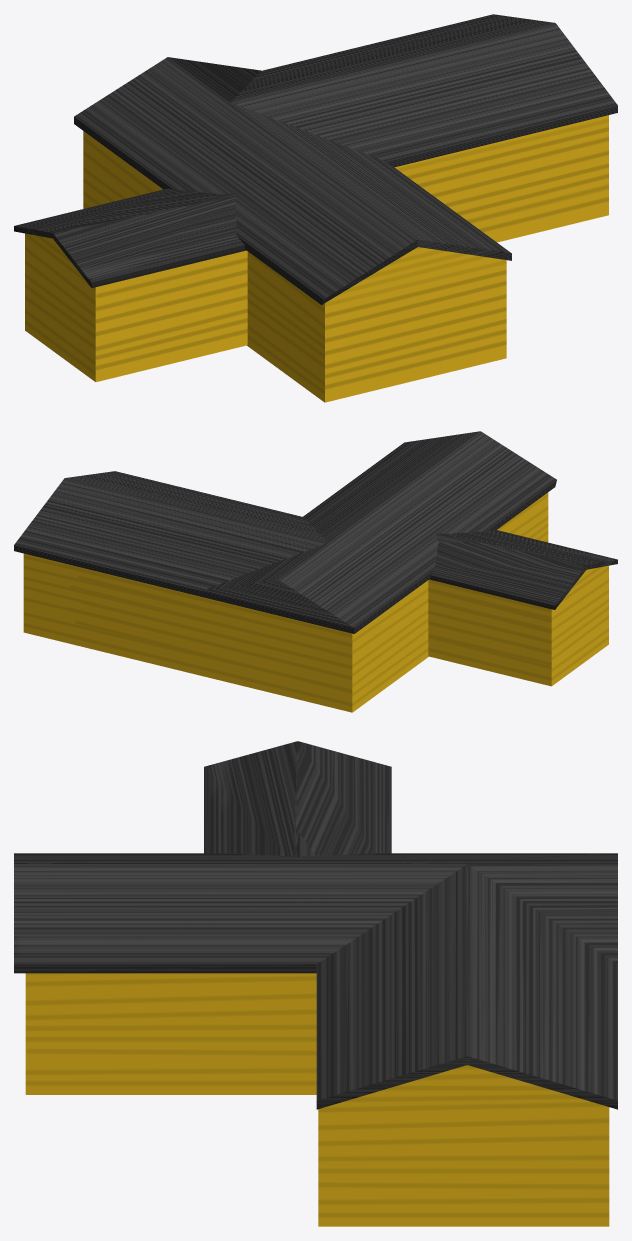
The model's file is House 1.glb.
3 renders of one model, top to bottom at view 1: azimuth 30°, elevation 25°; view 2: azimuth 150°, elevation 25°; view 3: azimuth 270°, elevation 25°, orthographic. The views are drawn at different scales.
Visible parts, largest first — view 1: Cube.002, Cube, Cube.003; view 2: Cube.002, Cube, Cube.003; view 3: Cube.002, Cube, Cube.003.
Part boxes in pixels (x1,y1,x2,y2): Cube.002: [74, 14, 617, 304]; Cube: [25, 115, 608, 402]; Cube.003: [14, 188, 246, 287]; Cube.002: [14, 431, 556, 633]; Cube: [23, 492, 608, 712]; Cube.003: [429, 529, 617, 609]; Cube.002: [14, 853, 617, 1109]; Cube: [25, 973, 609, 1226]; Cube.003: [204, 741, 391, 856].
Size of the model in its own units: 73.26 by 17.71 by 55.32.
3 materials, 3 textured.
